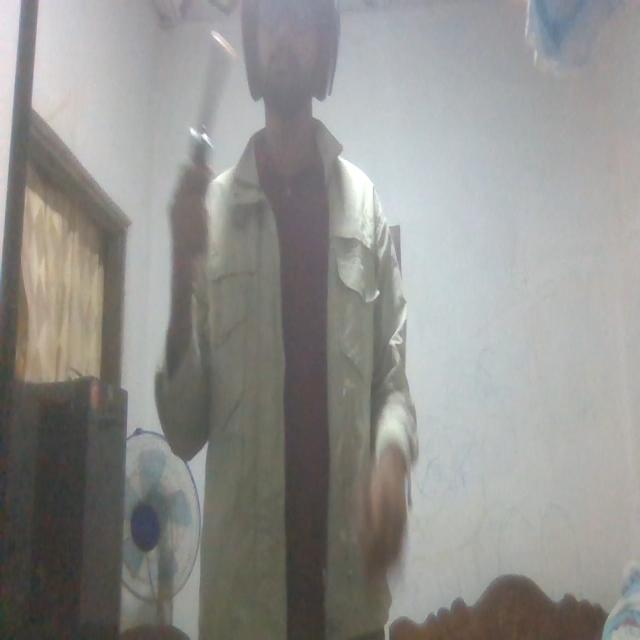Gun_Holder: (178, 28, 234, 276)
Helmet_Wearer: (233, 0, 347, 118)
Jacket_Wearer: (151, 110, 419, 638)
Person: (166, 0, 414, 640)
